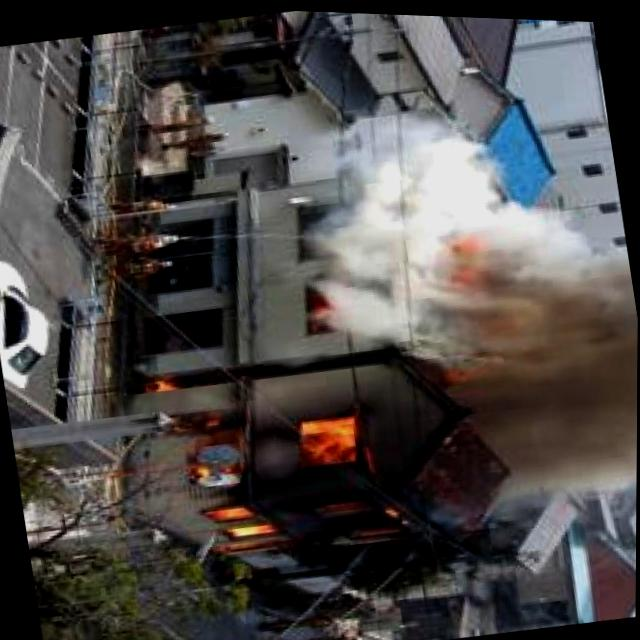helmet: (125, 329, 434, 590)
no_helmet: (303, 71, 640, 386), (433, 331, 638, 515)
